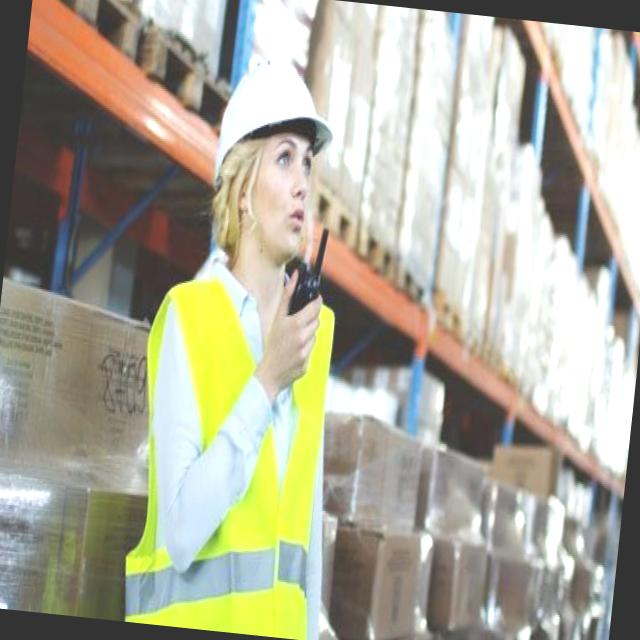helmet: (208, 48, 341, 190)
vest: (117, 250, 351, 640)
